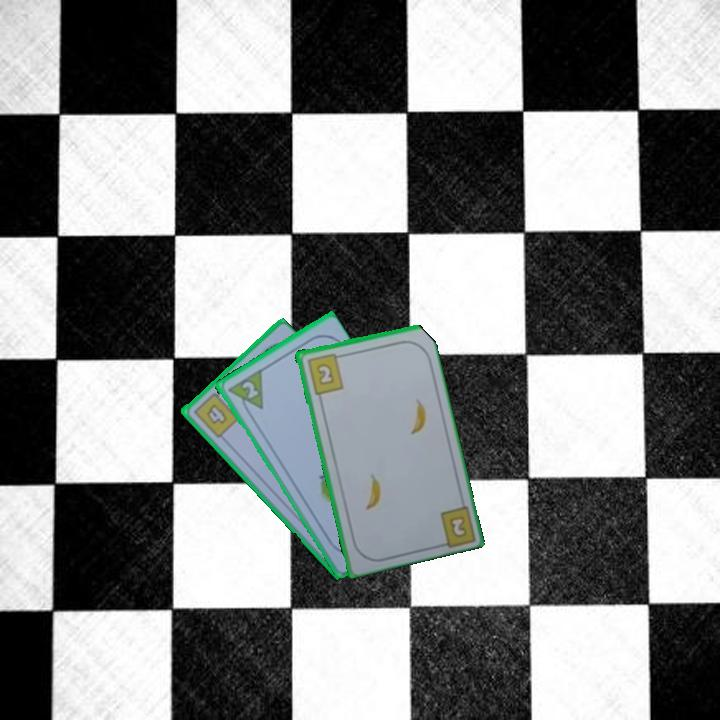2b: (303, 349, 346, 397), (445, 512, 467, 538)
2p: (223, 366, 266, 419)
4b: (189, 386, 241, 441)
